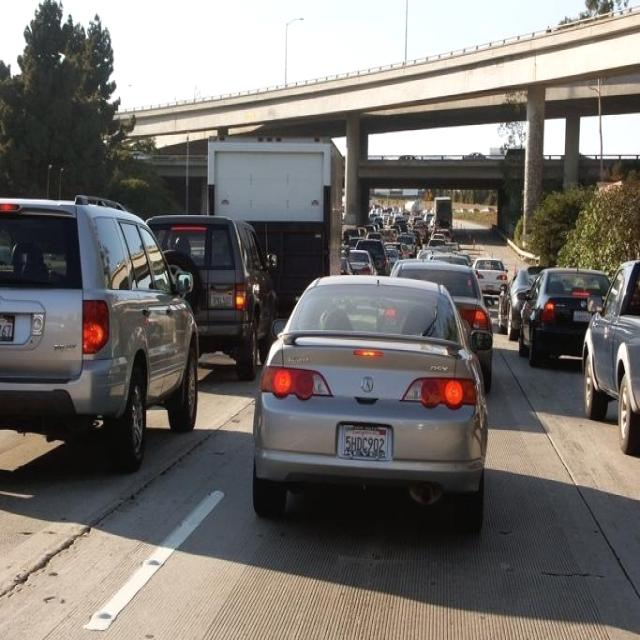Caminhao: (204, 132, 345, 338)
Carro Azul Escuro: (582, 260, 640, 464)
Carro Prata: (260, 270, 492, 530), (0, 206, 201, 477)
Carro Preto: (390, 262, 506, 393), (526, 266, 610, 368)
